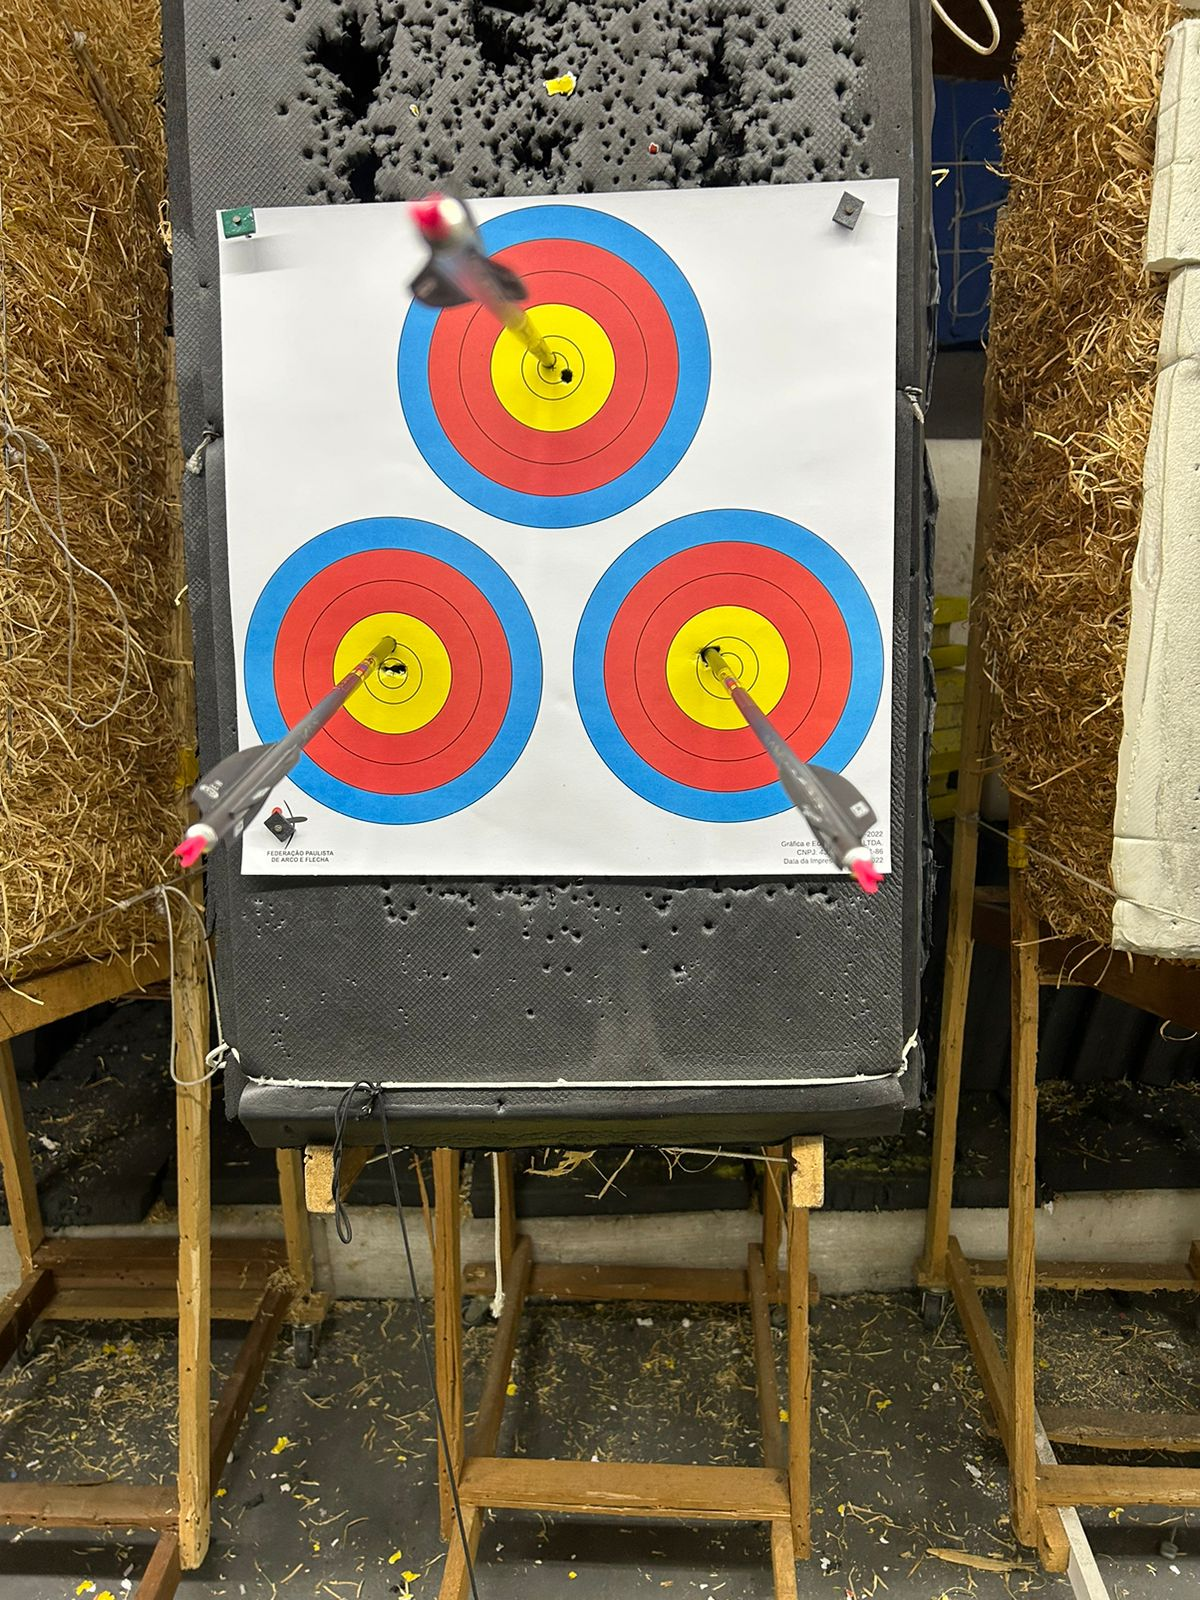10: (402, 227, 718, 517)
9: (250, 517, 563, 825)
9 linha 10: (580, 515, 892, 839)
